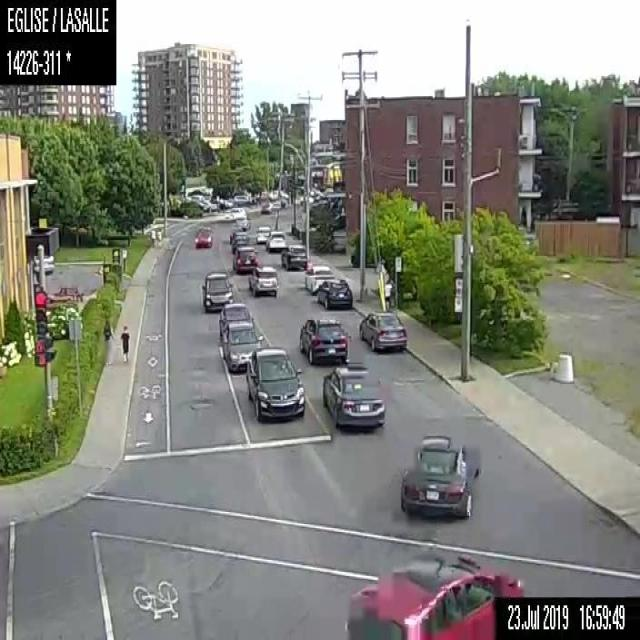pedestrian: (102, 319, 114, 361), (118, 322, 130, 362), (383, 278, 392, 310), (155, 228, 162, 246), (149, 227, 155, 247)
vehicle: (342, 552, 524, 639), (398, 432, 478, 517), (243, 343, 306, 420), (320, 361, 385, 428), (297, 316, 349, 362), (357, 308, 408, 352), (220, 321, 262, 371), (201, 269, 234, 308), (315, 278, 352, 310), (246, 263, 277, 297), (218, 302, 252, 331), (304, 263, 334, 293), (232, 245, 258, 272), (280, 243, 306, 268), (192, 224, 212, 248), (265, 230, 287, 250), (29, 255, 52, 273), (229, 231, 249, 250), (255, 224, 272, 242), (225, 206, 246, 218), (261, 199, 272, 213)
